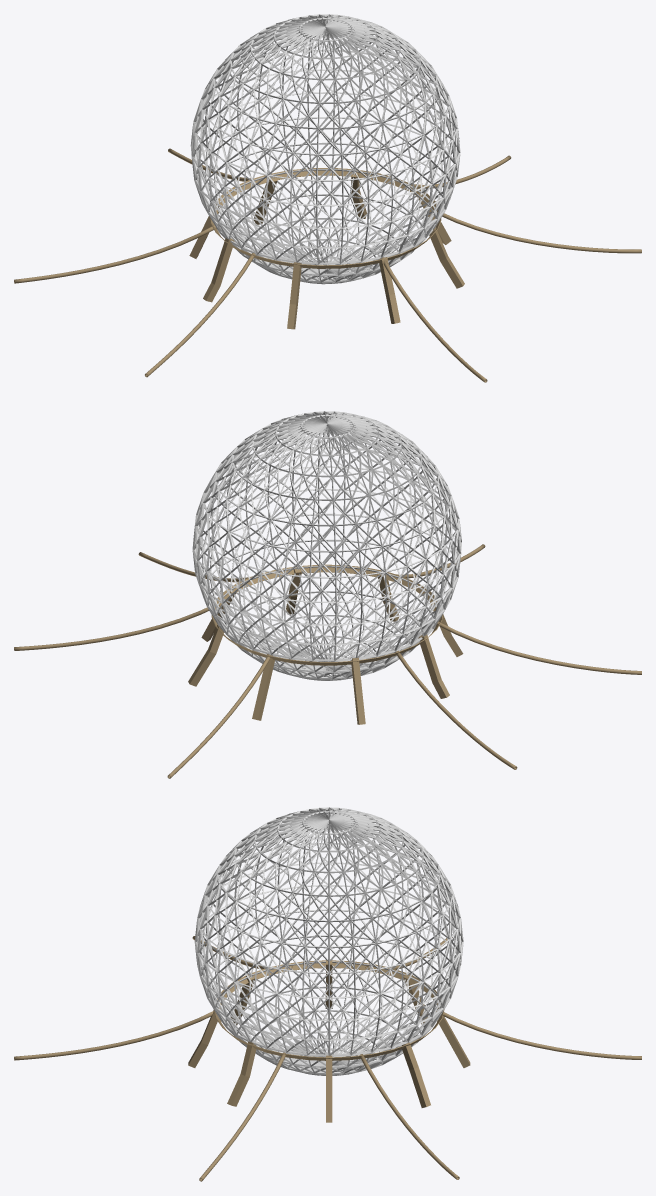
Rendered from kure1.fbx.
The picture shows the model from 3 angles, top to bottom: view 1: azimuth 30°, elevation 25°; view 2: azimuth 150°, elevation 25°; view 3: azimuth 270°, elevation 25°; orthographic projection.
Parts seen in each view (by area): view 1: Sphere.001; view 2: Sphere.001; view 3: Sphere.001.
Boxes of the visible parts, x1=… form: Sphere.001: x1=14, y1=14, x2=641, y2=382; Sphere.001: x1=14, y1=411, x2=641, y2=778; Sphere.001: x1=14, y1=807, x2=641, y2=1181.
Size of the model in its own units: 864 by 407 by 939.
